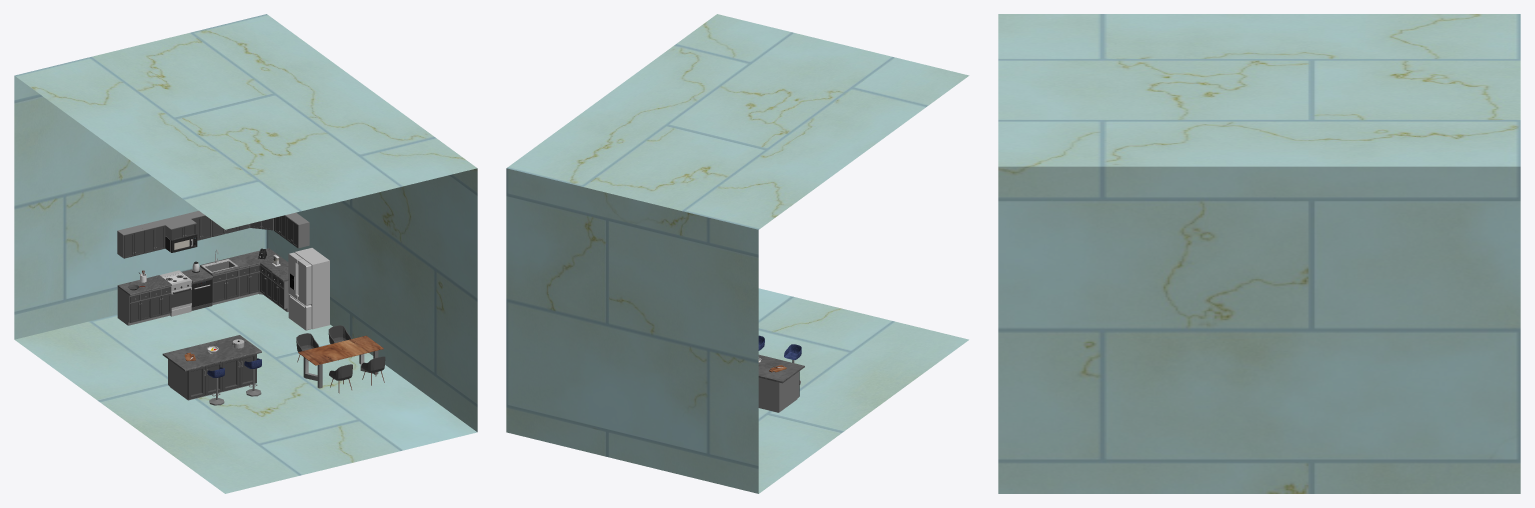
The model's file is KitchenLayout.fbx.
3 renders of one model, left to right at view 1: azimuth 30°, elevation 25°; view 2: azimuth 150°, elevation 25°; view 3: azimuth 270°, elevation 25°, orthographic. The views are drawn at different scales.
Parts seen in each view (by area): view 1: Cube.034, Cube.008, Cube.030, Cube.046, Cube.036, Cube.016, Base.007, Cube.037, Base.005, Base.013, Base.001, Cube.035 (+4 smaller); view 2: Cube.034, Cube.008; view 3: Cube.034.
Part boxes in pixels (x1,y1,x2,y2): Cube.034: (14,14,477,493); Cube.008: (162,335,261,400); Cube.030: (288,248,329,330); Cube.046: (298,335,383,388); Cube.036: (117,287,150,325); Cube.016: (160,270,191,316); Base.007: (117,225,144,258); Cube.037: (212,269,238,305); Base.005: (286,213,309,248); Base.013: (159,214,196,240); Base.001: (138,220,165,253); Cube.035: (149,286,171,320); Cube.034: (506,14,969,493); Cube.008: (758,354,804,412); Cube.034: (998,14,1520,493).
Bounding box in the file's own units: 738 × 738 × 1067.
23 materials, 6 textured.
